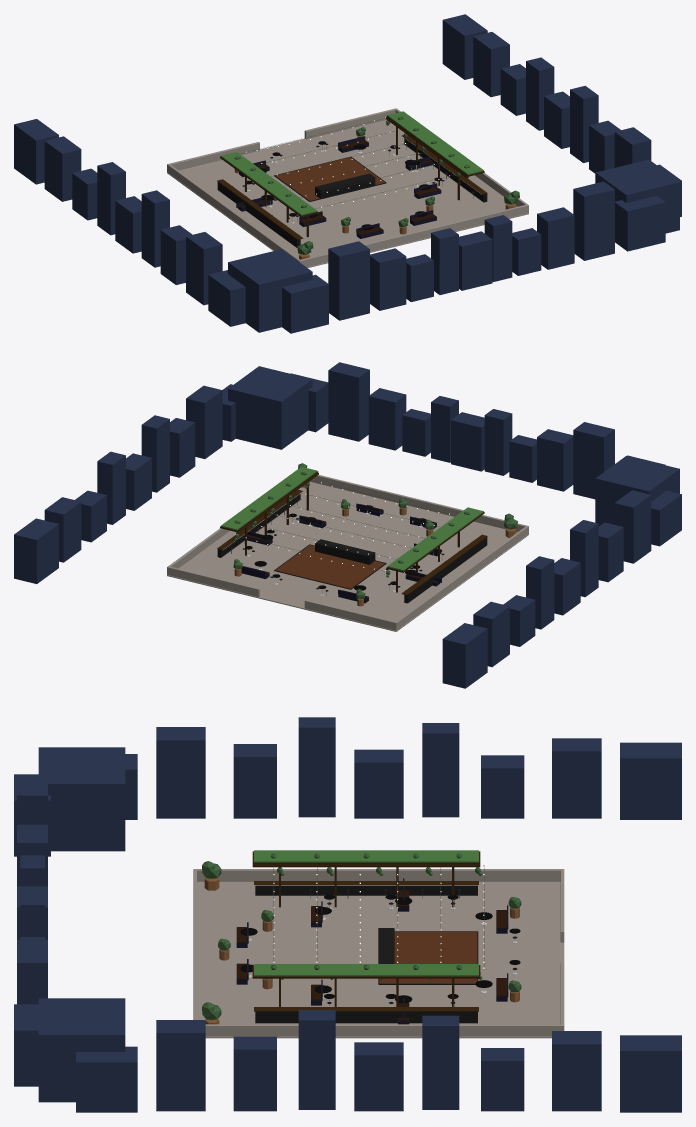
The model's file is dj-rooftop.glb.
The picture shows the model from 3 angles, top to bottom: view 1: azimuth 30°, elevation 25°; view 2: azimuth 150°, elevation 25°; view 3: azimuth 270°, elevation 25°; orthographic projection. The views are drawn at different scales.
Visible parts, largest first — view 1: Patio, Building_Corner_BL, Building_Back_01, Building_Back_09, Building_Corner_BR, Building_Back_10, Building_Back_00, Building_Back_02, Building_Back_08, Building_Left_01, Building_Right_08, Building_Left_07 (+28 smaller); view 2: Patio, Building_Corner_BR, Building_Corner_BL, Building_Back_09, Building_Left_08, Building_Back_01, Building_Right_08, BoothFloor, Building_Left_01, Building_Right_01, Building_Back_02, Building_Back_08 (+29 smaller); view 3: Patio, Building_Corner_BL, Building_Corner_BR, Building_Left_08, Building_Right_08, Building_Left_01, Building_Right_01, Parapet_Left, Building_Left_07, Building_Right_07, Building_Right_00, Building_Left_03 (+29 smaller).
Part boxes in pixels (x1,y1,x2,y2): Patio: (167, 119, 528, 267); Building_Corner_BL: (228, 249, 312, 332); Building_Back_01: (328, 241, 369, 320); Building_Back_09: (573, 181, 614, 260); Building_Corner_BR: (595, 159, 679, 233); Building_Back_10: (615, 196, 665, 251); Building_Back_00: (282, 274, 328, 333); Building_Back_02: (370, 248, 406, 310); Building_Back_08: (537, 207, 574, 269); Building_Left_01: (186, 232, 222, 305); Building_Right_08: (442, 14, 487, 79); Building_Left_07: (44, 136, 81, 201); Patio: (167, 481, 528, 631); Building_Corner_BR: (228, 366, 312, 449); Building_Corner_BL: (595, 456, 679, 526); Building_Back_09: (328, 362, 369, 441); Building_Left_08: (442, 623, 487, 688); Building_Back_01: (573, 422, 614, 499); Building_Right_08: (14, 518, 58, 583); BoothFloor: (275, 545, 384, 588); Building_Left_01: (614, 490, 651, 563); Building_Right_01: (186, 385, 222, 458); Building_Back_02: (537, 429, 573, 491); Building_Back_08: (368, 388, 406, 450); Patio: (197, 881, 564, 1038); Building_Corner_BL: (38, 747, 125, 851); Building_Corner_BR: (38, 998, 125, 1102); Building_Left_08: (620, 742, 681, 819); Building_Right_08: (620, 1035, 681, 1112); Building_Left_01: (156, 727, 205, 818); Building_Right_01: (156, 1020, 205, 1111); Parapet_Left: (193, 869, 564, 881); Building_Left_07: (552, 738, 601, 818); Building_Right_07: (552, 1031, 601, 1111); Building_Right_00: (76, 1046, 137, 1112); Building_Left_03: (298, 717, 335, 817).
Size of what is drawn, in the model's own units: 59 by 8.15 by 54.
